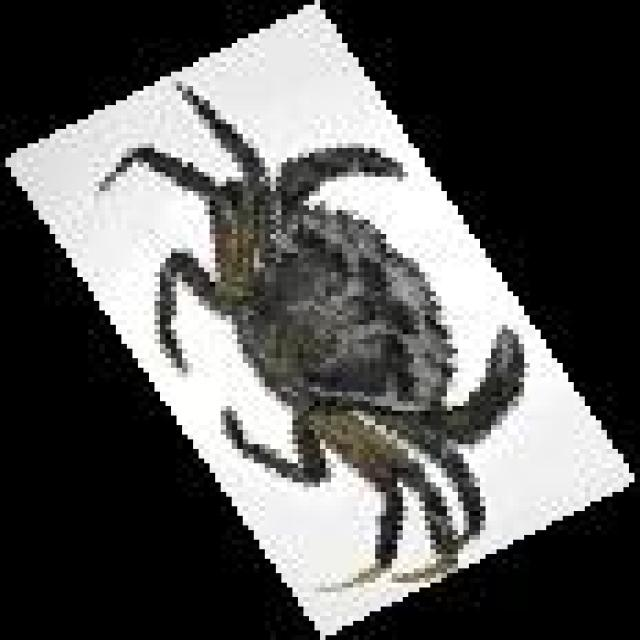European Green crab: (99, 86, 524, 587)
